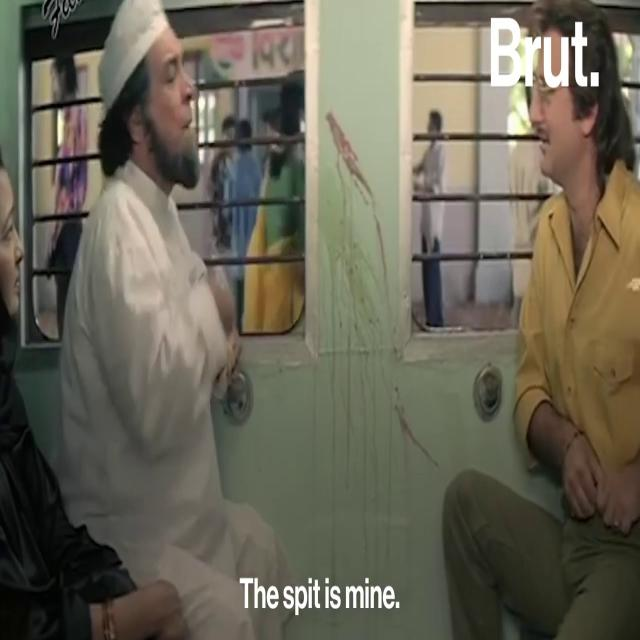spit: (312, 108, 428, 368)
